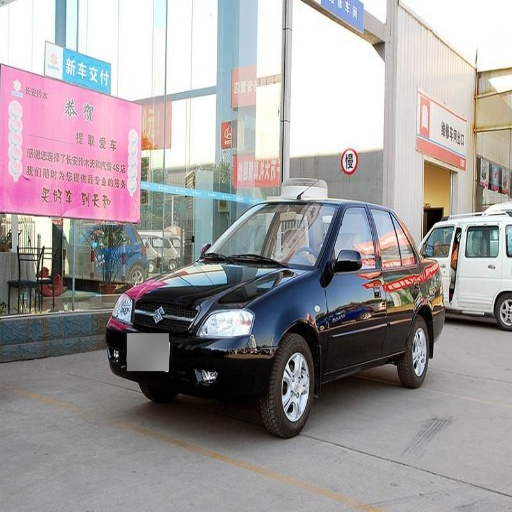front_bumper: (107, 293, 274, 395)
front_glass: (201, 202, 340, 267)
front_left_door: (327, 205, 386, 367)
trunk: (415, 258, 443, 313)
